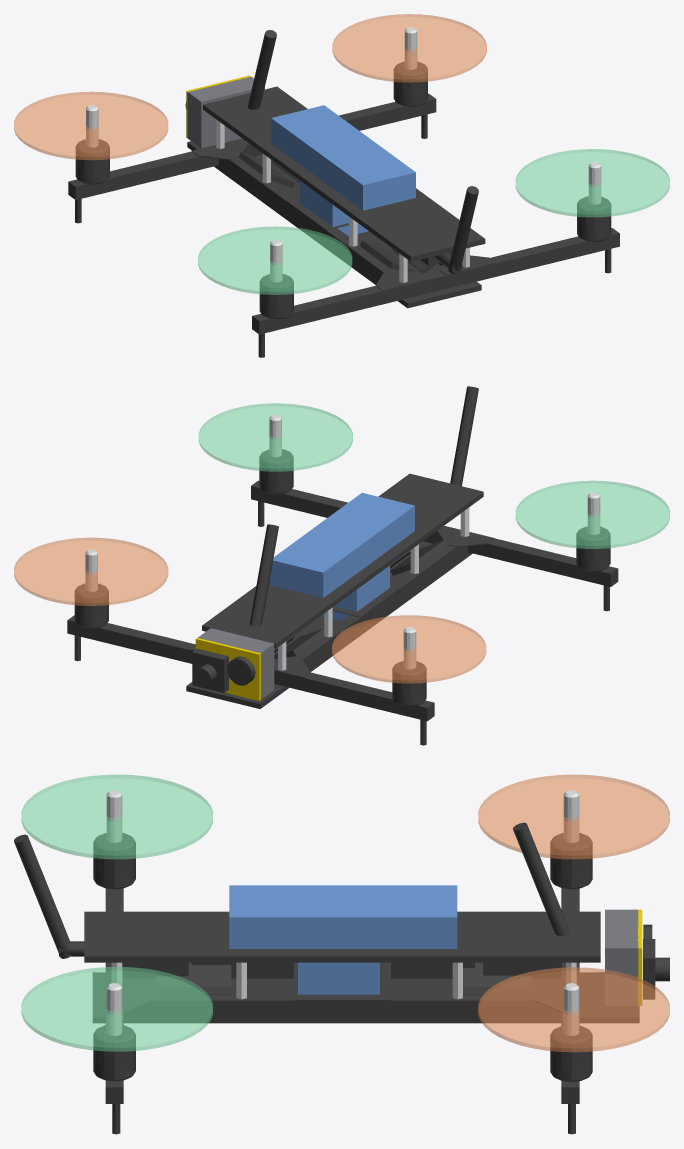
File: quadcopter.glb
3 views of the same model, one above another, from view 1: azimuth 30°, elevation 25°; view 2: azimuth 150°, elevation 25°; view 3: azimuth 270°, elevation 25° (orthographic). The views are drawn at different scales.
Parts seen in each view (by area): view 1: 3DSMeshMatrix (×26); view 2: 3DSMeshMatrix (×28); view 3: 3DSMeshMatrix (×33).
Boxes of the visible parts, box(x1,y1,x2,y2) form: 3DSMeshMatrix (×26): box(14, 14, 669, 334); 3DSMeshMatrix (×28): box(14, 386, 669, 721); 3DSMeshMatrix (×33): box(14, 774, 669, 1103).
Bounding box in the file's own units: 42684 × 14712 × 43178.
